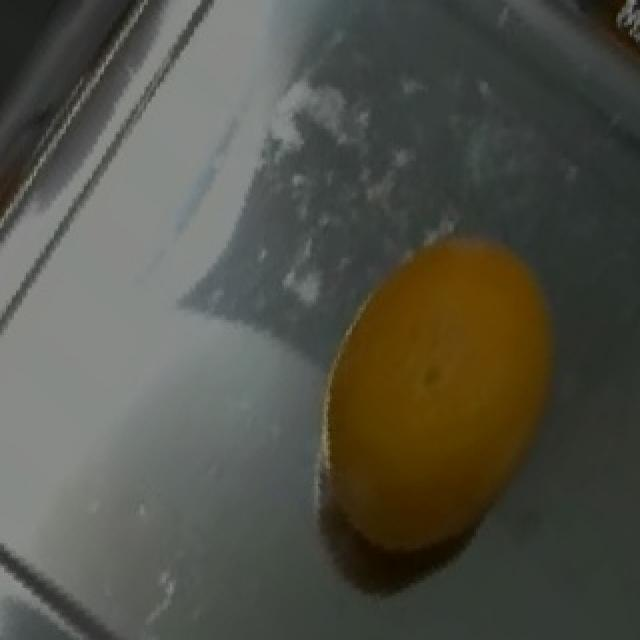Fruit: (300, 206, 580, 523)
